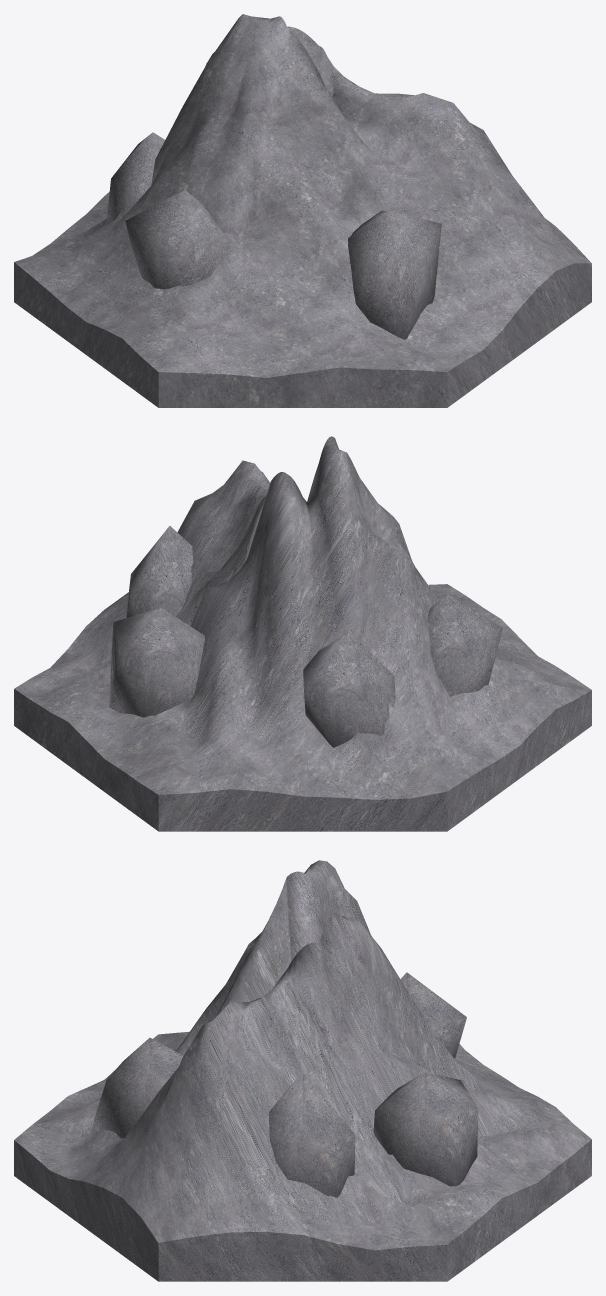
The model's file is env-terrain-mountain-mobile.glb.
3 views of the same model, one above another, from view 1: azimuth 30°, elevation 25°; view 2: azimuth 150°, elevation 25°; view 3: azimuth 270°, elevation 25° (orthographic).
Visible parts, largest first — view 1: terrain mountain · authored textured miniature; view 2: terrain mountain · authored textured miniature; view 3: terrain mountain · authored textured miniature.
Part boxes in pixels (x1,y1,x2,y2): terrain mountain · authored textured miniature: (14, 14, 591, 407); terrain mountain · authored textured miniature: (14, 436, 591, 831); terrain mountain · authored textured miniature: (14, 860, 591, 1281).
Size of the model in its own units: 1.63 by 1.1 by 1.88.
Materials: 1 (1 with a texture image).
